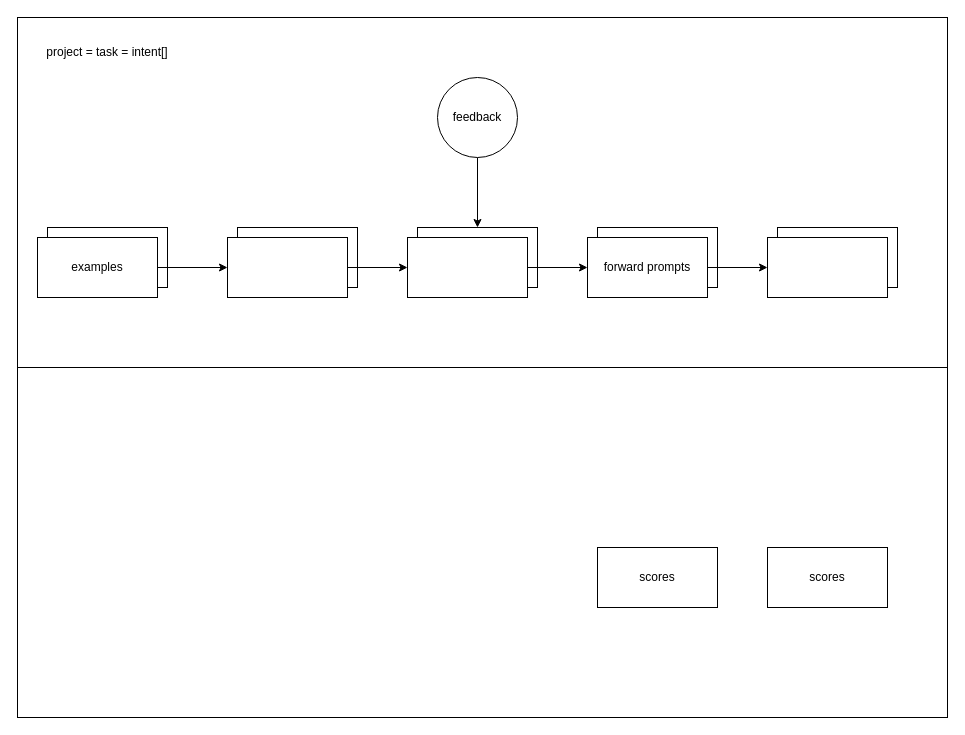
The diagram is 965 pixels wide and 735 high, and some of its shapes have lost their labels. Here are the shapes that lost their labels. From the top down, the centre of each, then its label:
At pixel 287 267: "reverse prompts".
At pixel 467 267: "intents".
At pixel 827 267: "simulations".
